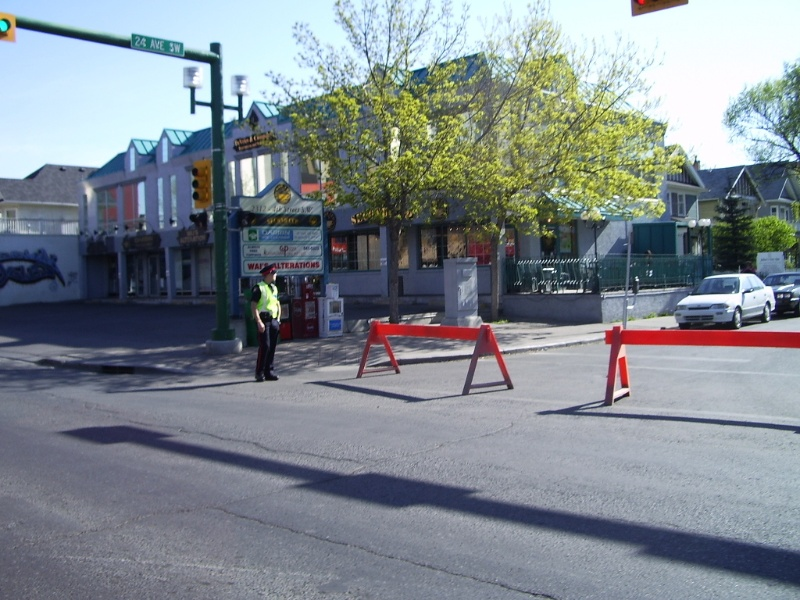green_light: (1, 13, 13, 39)
